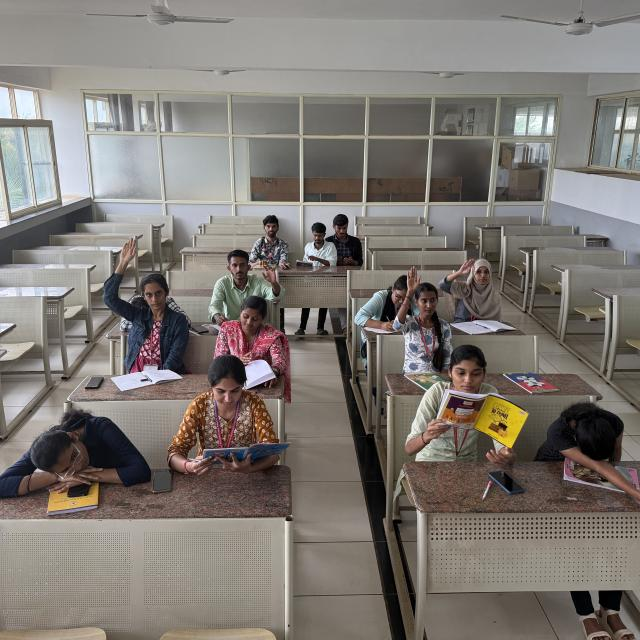Hand Rising: (102, 236, 186, 363), (391, 266, 453, 365), (213, 250, 281, 318), (441, 257, 504, 320)
Reading: (168, 353, 288, 476), (420, 343, 510, 450), (218, 294, 286, 386)
Sleeping: (0, 408, 149, 486), (538, 402, 624, 466)
Using Phone: (251, 214, 295, 270), (326, 214, 364, 266)
Writing: (352, 274, 412, 334), (295, 221, 337, 269)
